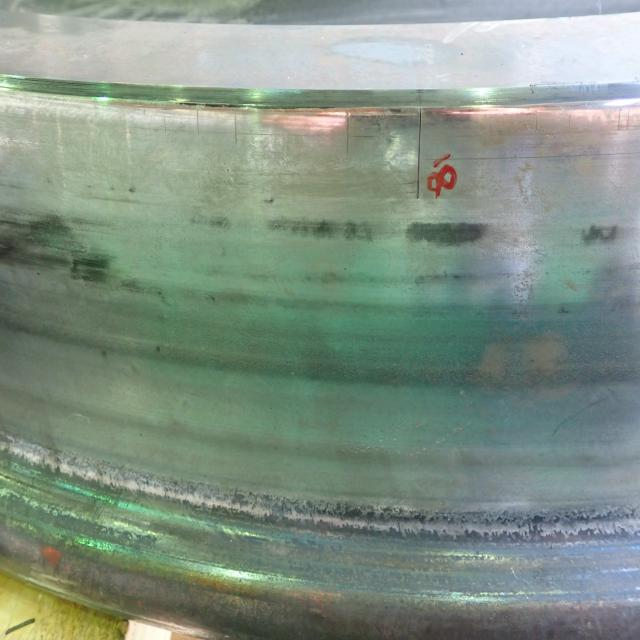hot crack: (408, 98, 432, 206), (341, 99, 356, 162), (229, 101, 242, 149), (190, 100, 204, 143), (160, 103, 172, 137)
